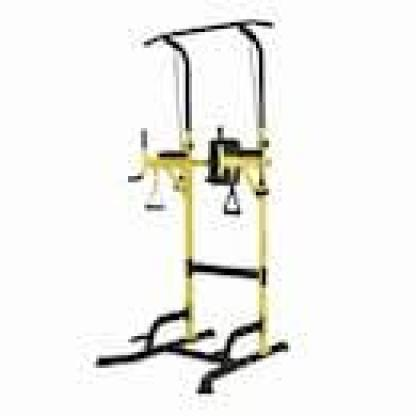chinning dipping: (97, 19, 289, 395)
